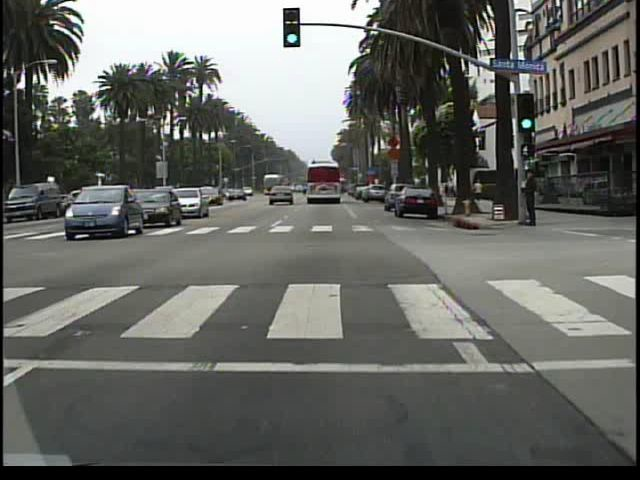person: (520, 166, 540, 228)
